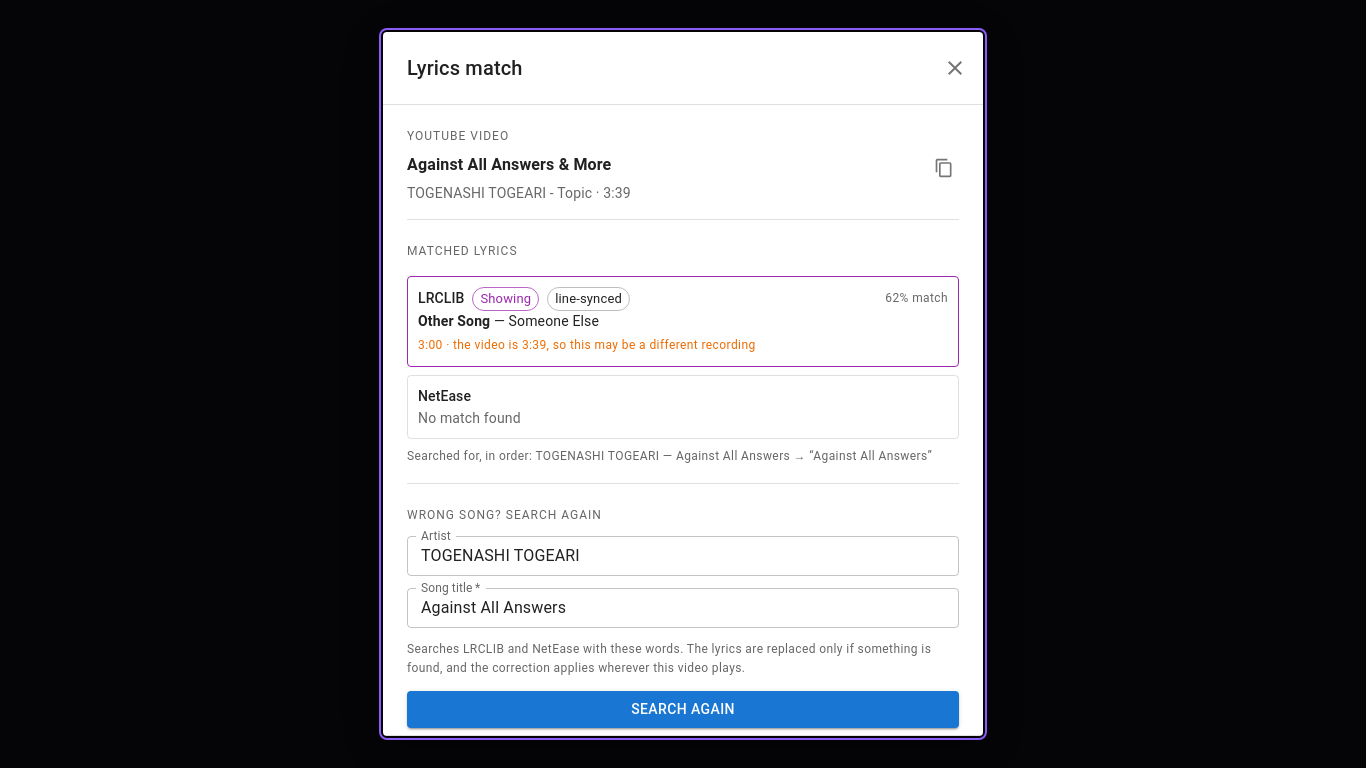
Test: lyrics match screen › says when a search found nothing and the lyrics were kept
The image size is (1366, 768).
expect the field labelled "Song title *" holds "Against All Answers": met, box [407,588,959,628]
Click the button "Search again": [683, 710] box [407,691,959,728]
(page scrolled)
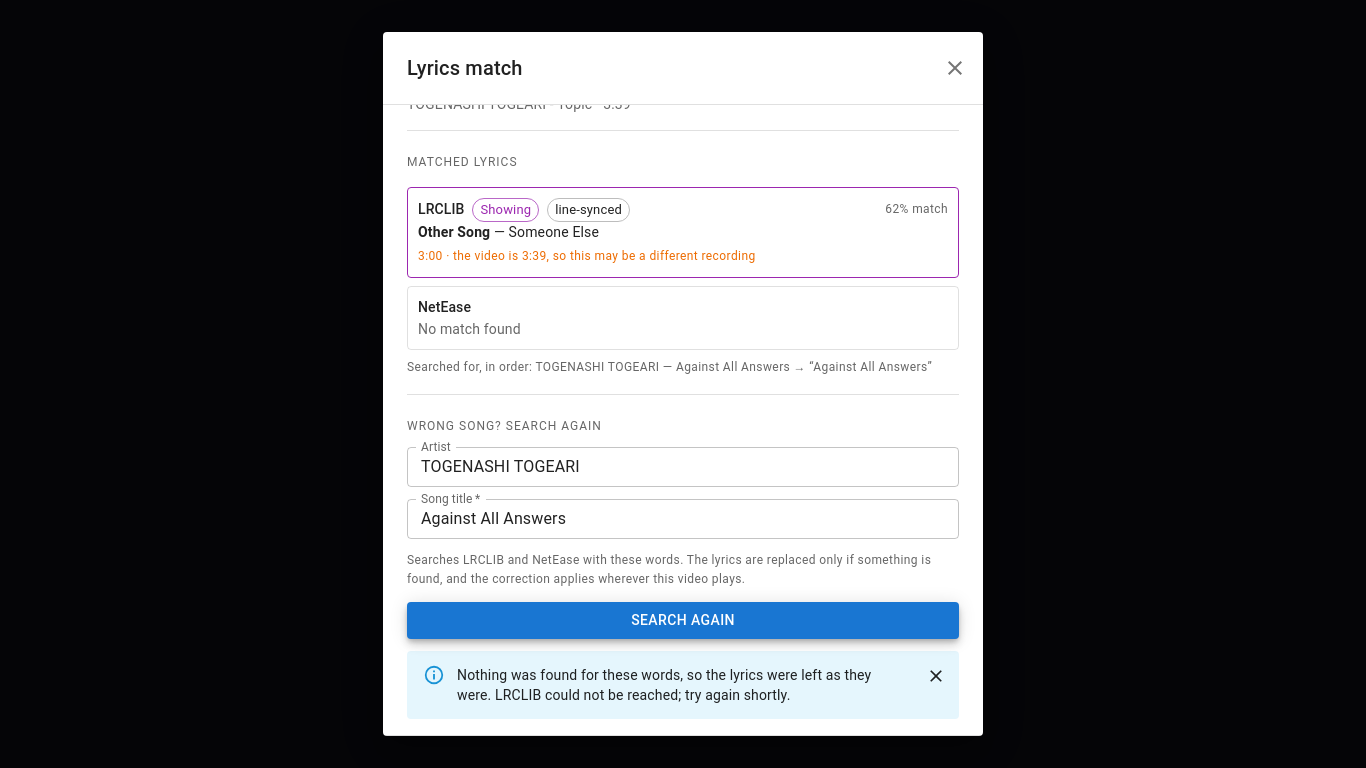
expect the text "lyrics were left as they were. LRCLIB could not be reached" is shown: met, box [457,667,871,703]
